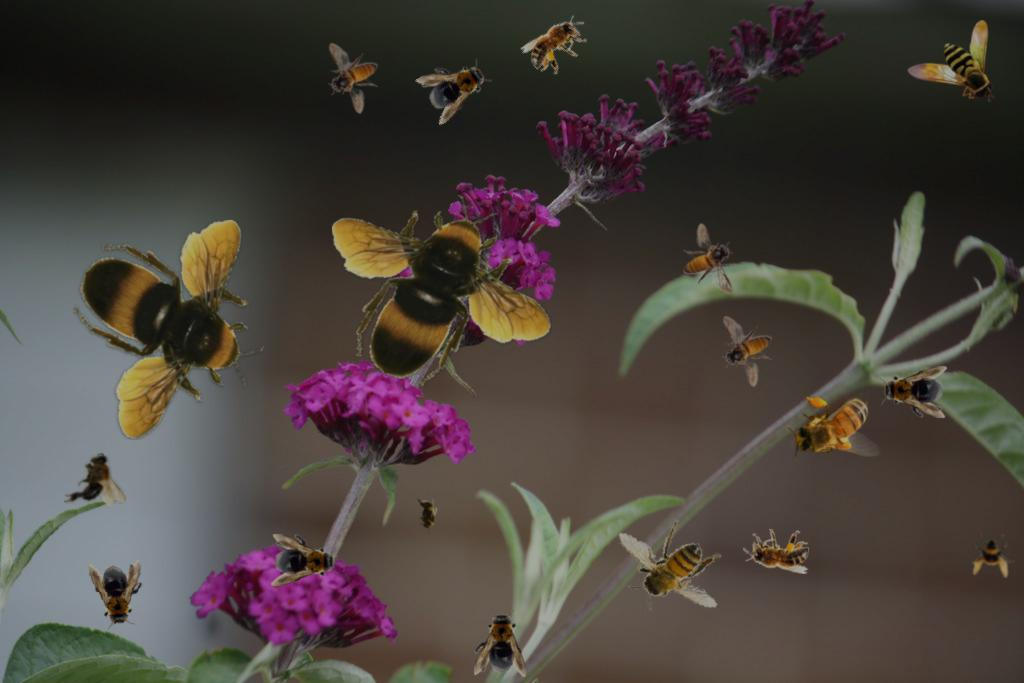Bee: (332, 195, 552, 386), (73, 220, 264, 440), (605, 509, 732, 623), (907, 20, 995, 102), (413, 46, 499, 126), (788, 393, 881, 461), (518, 4, 598, 83), (88, 558, 148, 632), (683, 223, 733, 294), (722, 316, 772, 387), (328, 43, 378, 114), (474, 609, 526, 677), (271, 534, 339, 586), (879, 366, 947, 418), (64, 453, 126, 506), (743, 529, 809, 574), (971, 534, 1015, 578), (416, 495, 438, 535)
